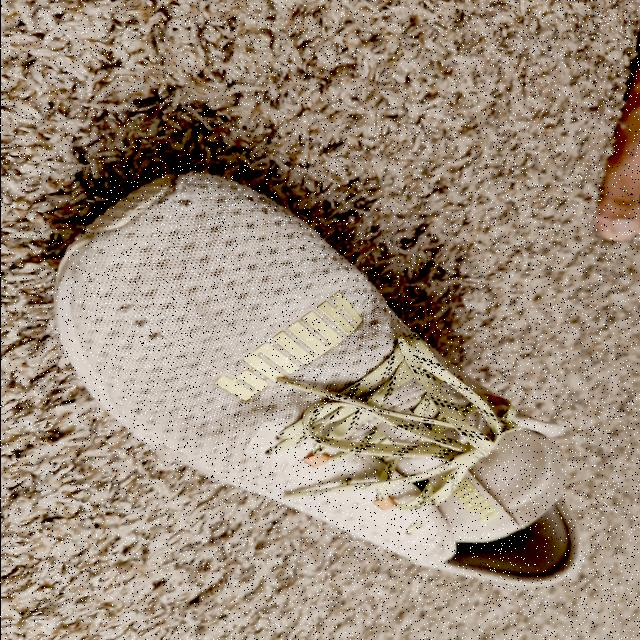white shoes: (60, 173, 578, 587)
